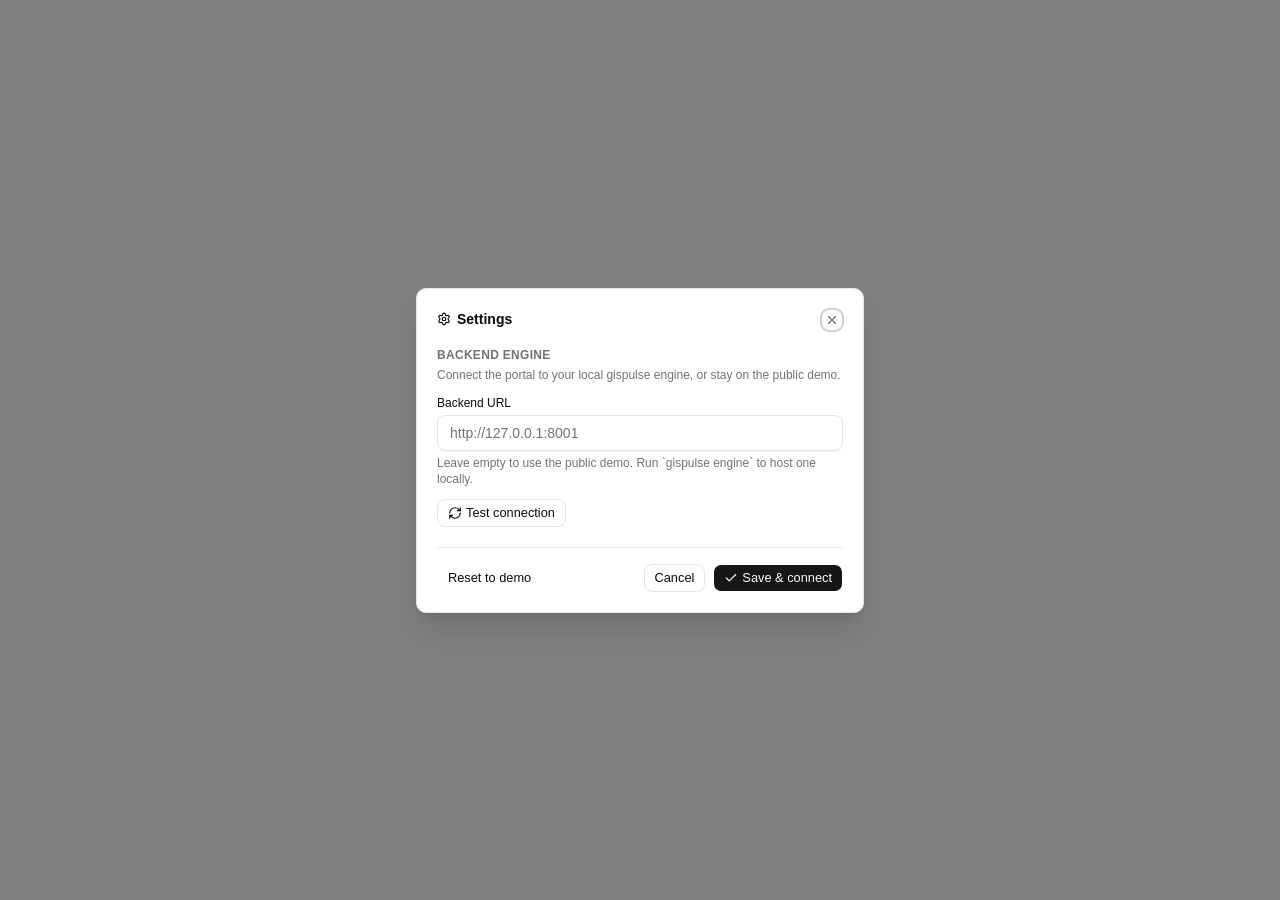
Scenario: SettingsPanel › shows validation error for trailing path
The width and height of the screenshot is (1280, 900).
In the field labelled "Backend URL": (640, 432) [437,414,843,450], type "https://api.example.com/v1"
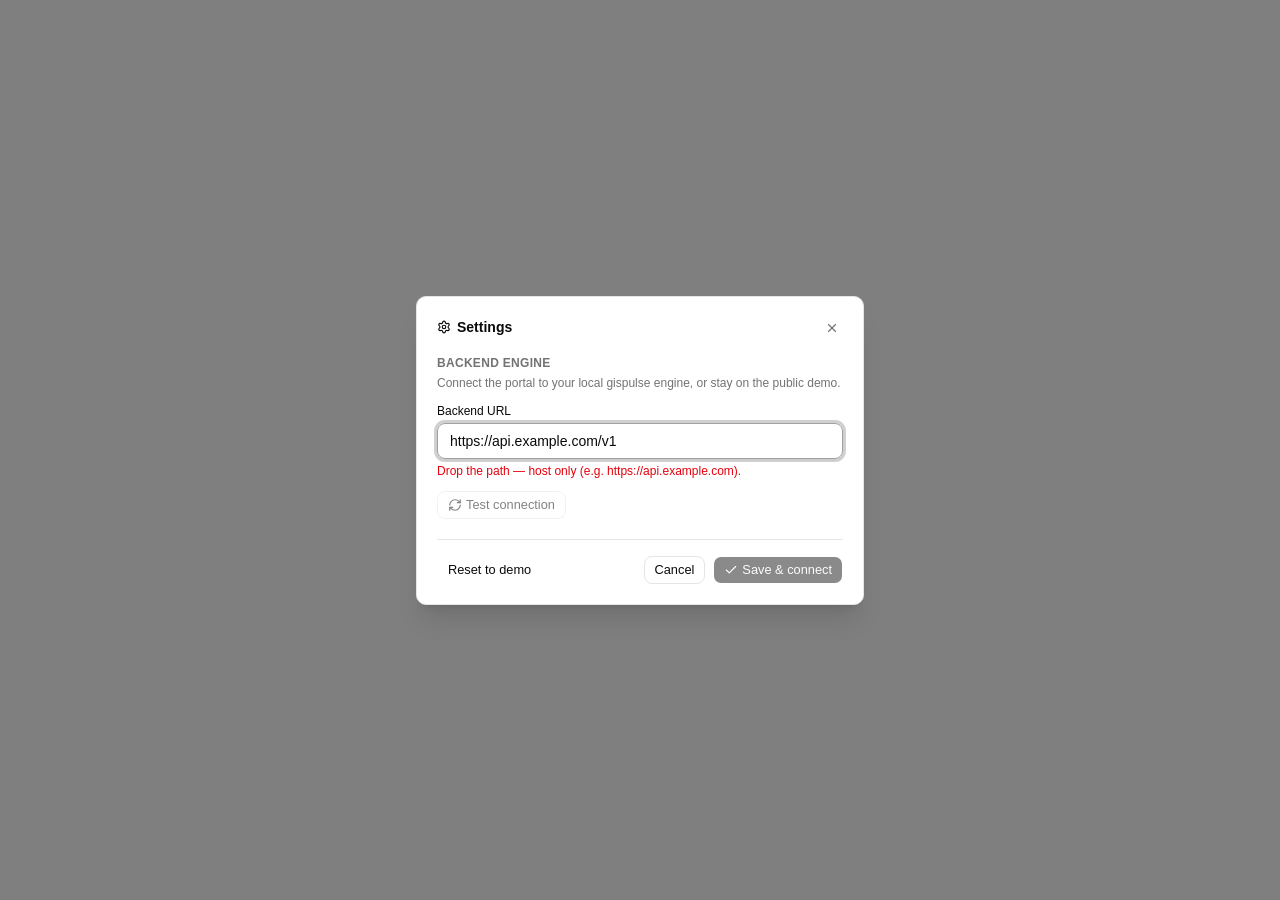
Check: the message "Drop the path — host only (e.g. https://api.example.com)." is shown, box [437,464,741,478]
